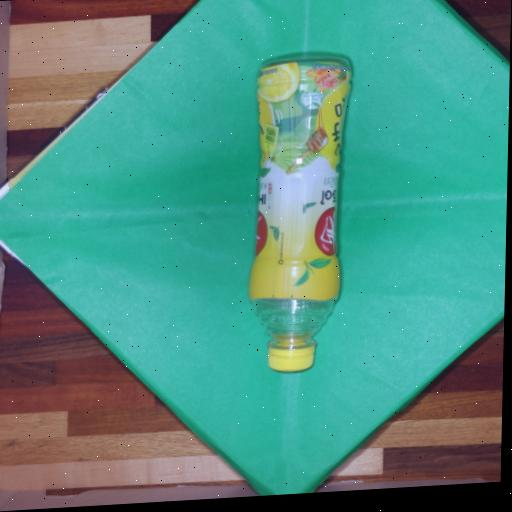bottle: (249, 59, 350, 372)
